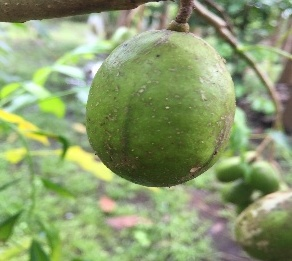Coc: (73, 30, 244, 189)
